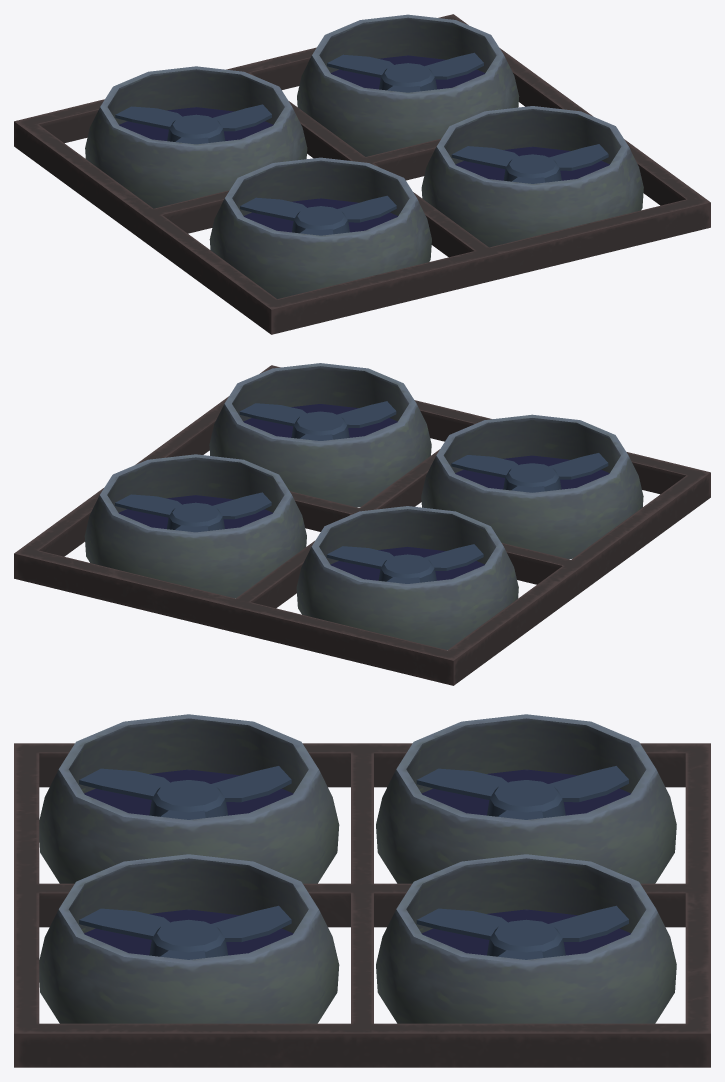
File: Fans_A.fbx
The picture shows the model from 3 angles, top to bottom: view 1: azimuth 30°, elevation 25°; view 2: azimuth 150°, elevation 25°; view 3: azimuth 270°, elevation 25°; orthographic projection. The views are drawn at different scales.
Parts seen in each view (by area): view 1: Fans; view 2: Fans; view 3: Fans.
Boxes of the visible parts, bbox=[...] form: Fans: bbox=[14, 14, 710, 334]; Fans: bbox=[14, 363, 710, 685]; Fans: bbox=[14, 714, 710, 1067].
Bounding box in the file's own units: 180 × 24.11 × 183.
